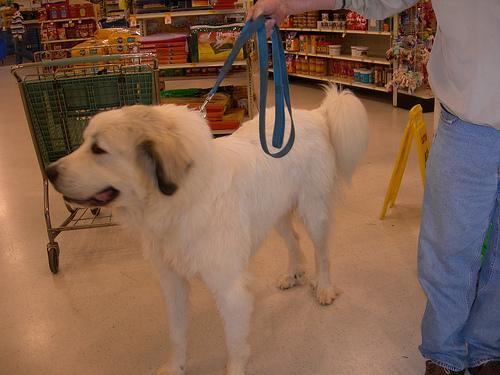Great_Pyrenees: (39, 79, 370, 374)
